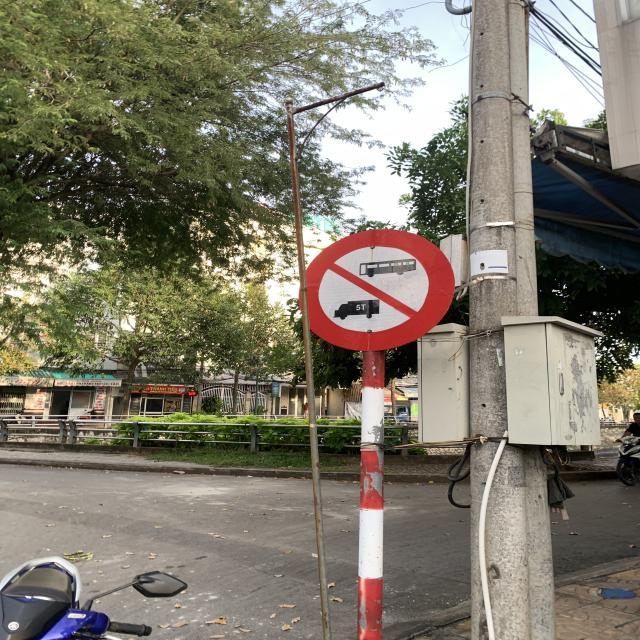Cam_XeTai_XeKhach: (297, 230, 455, 350)
